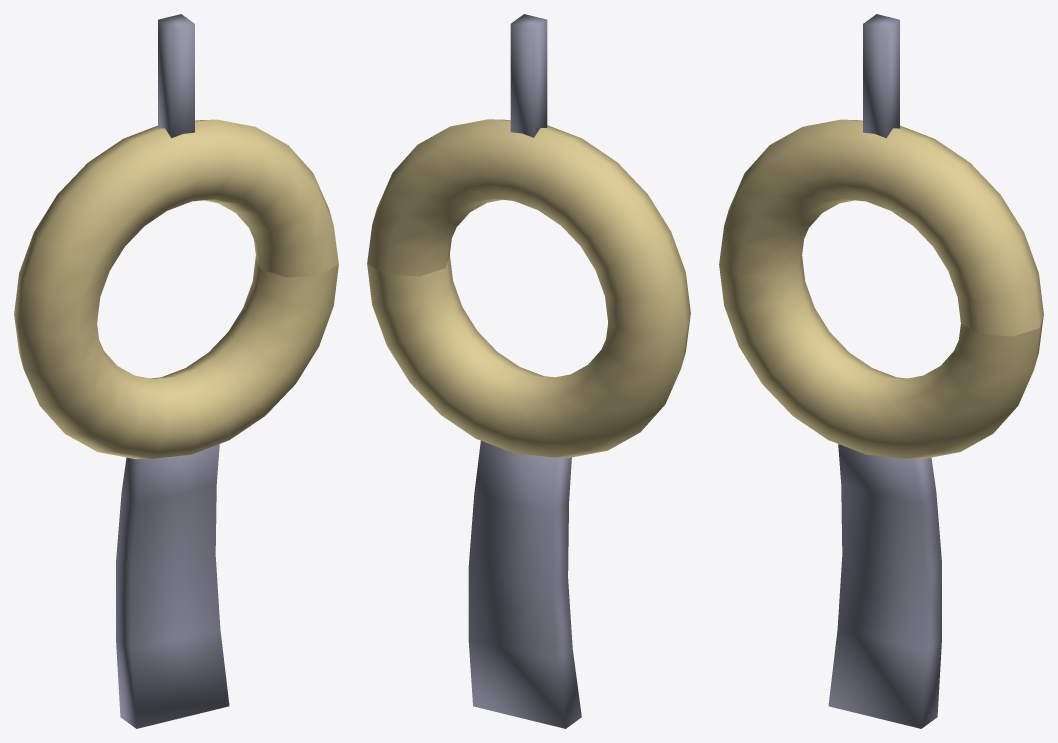
Rendered from jiangnan.glb.
The picture shows the model from 3 angles, left to right: view 1: azimuth 30°, elevation 25°; view 2: azimuth 150°, elevation 25°; view 3: azimuth 330°, elevation 25°; orthographic projection.
Visible parts, largest first — view 1: jiangnan; view 2: jiangnan; view 3: jiangnan.
Boxes of the visible parts, x1,y1,x2,y2 form: jiangnan: [14, 14, 338, 728]; jiangnan: [367, 14, 690, 728]; jiangnan: [719, 14, 1043, 728].
Size of the model in its own units: 0.068 by 0.142 by 0.016.
